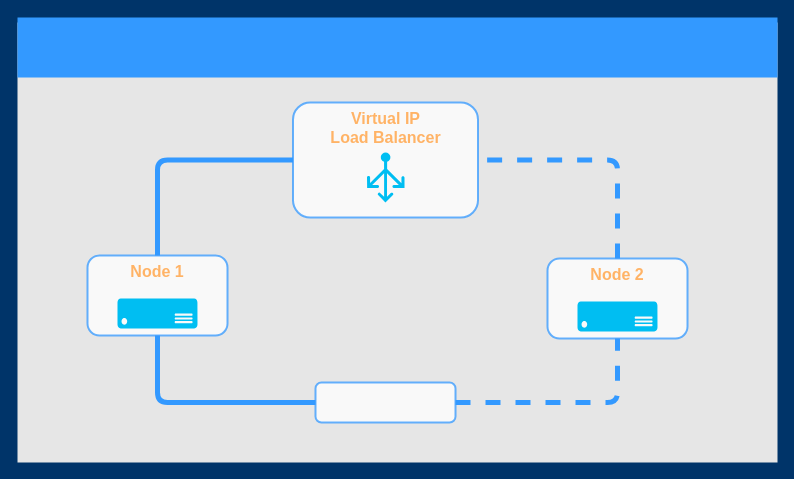
The diagram is 794 pixels wide and 479 high, and some of its shapes have lost their labels. The centre of each missing label's shape, as x and y in pixels:
Active - Passive 2 Nodes Cluster: the point at 397,47
Shared Storage: the point at 385,402
